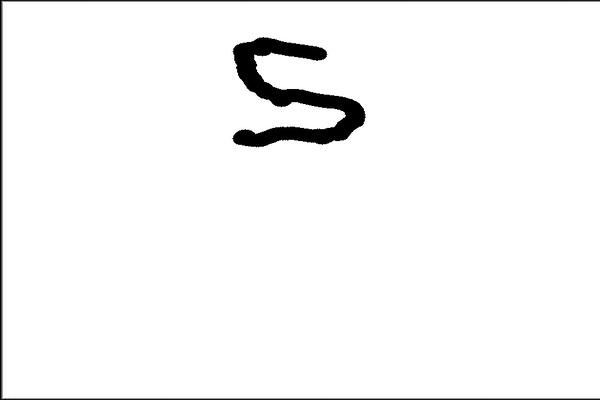S: (221, 28, 372, 154)
